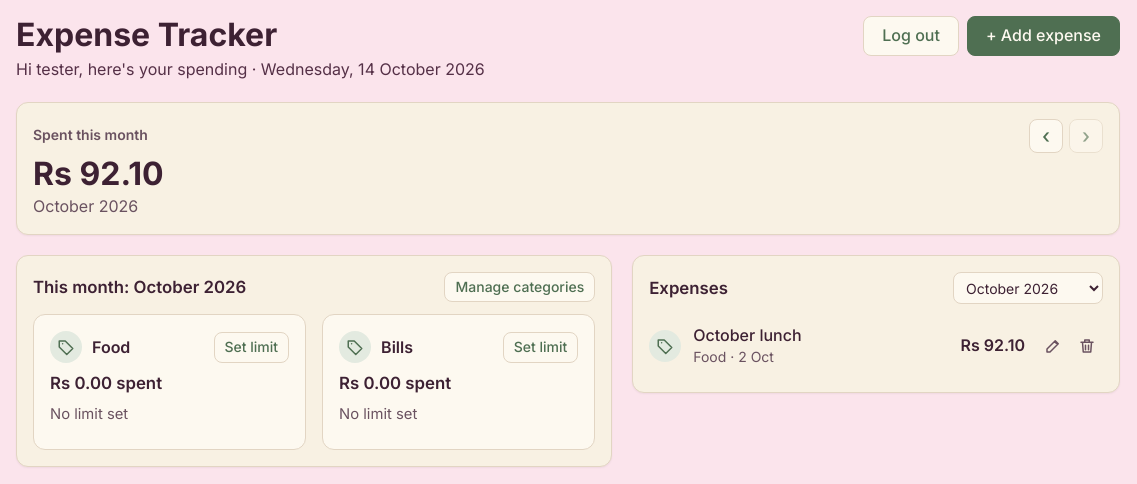
Scenario: the arrows show earlier months, without changing the list
Expected: the text "Rs 92.10" below "Spent this month" is shown, [33,154,164,193]
Click the button named "Previous month".
click(1046, 136)  # box [1029,119,1063,153]
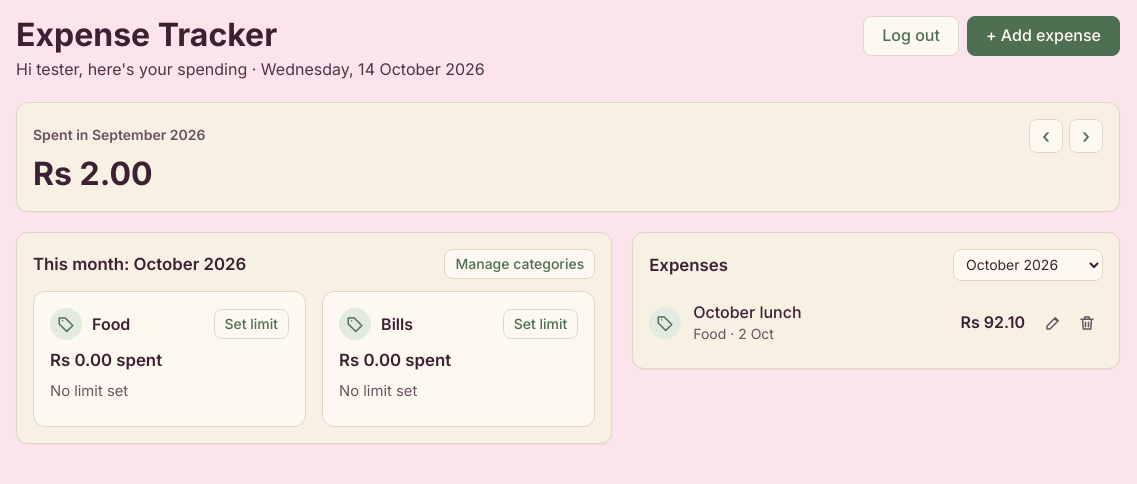
Expected: the text "Rs 2.00" is shown, [33,154,153,193]
Expected: the text "Spent in September 2026" is shown, [33,125,206,146]
August has no expenses but is not skipped.
Click the button named "Previous month".
click(1046, 136)  # box [1029,119,1063,153]
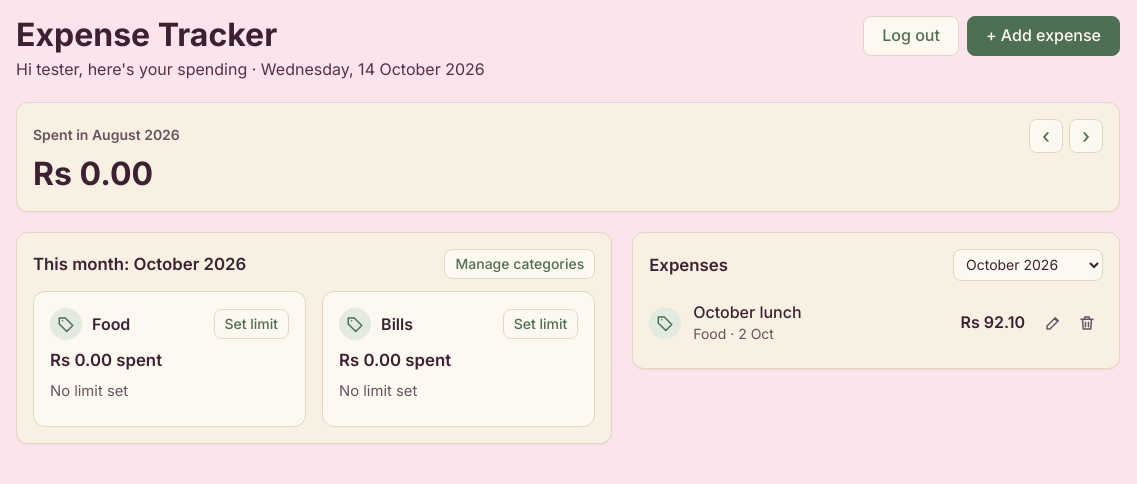
Expected: the text "Rs 0.00" is shown, [33,154,153,193]
Click the button named "Previous month".
click(1046, 136)  # box [1029,119,1063,153]
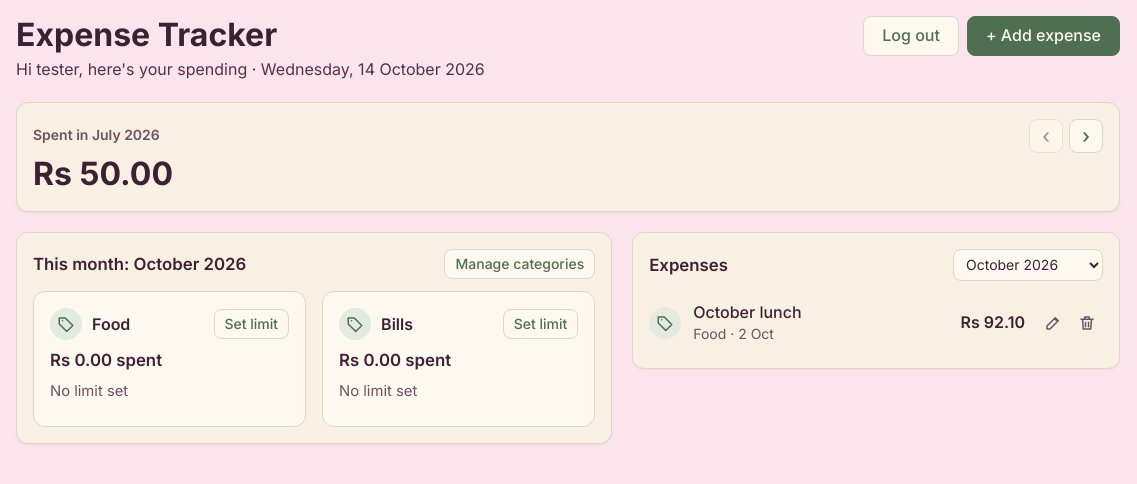
Expected: the dropdown named "Show expenses from" shows "October 2026", [953,249,1103,281]
Expected: the text "Rs 50.00" is shown, [33,154,173,193]
